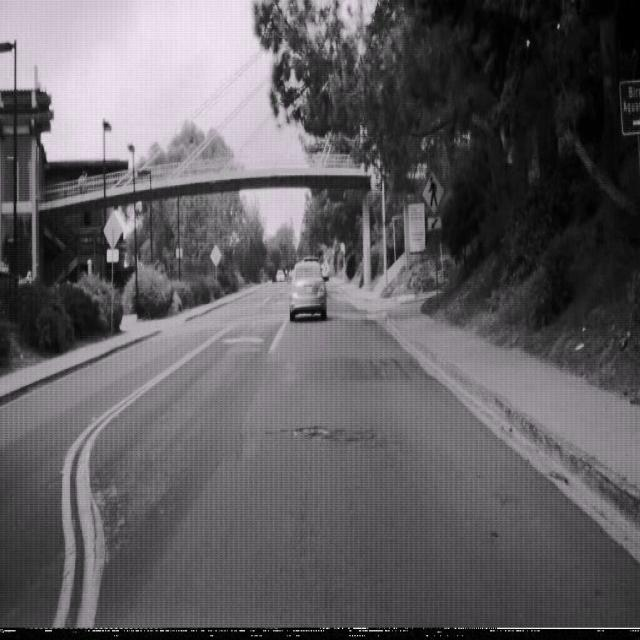pedestrianCrossing: (420, 168, 444, 217)
